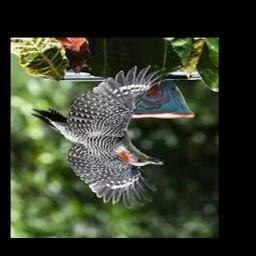Woodpecker: (32, 65, 181, 209)
